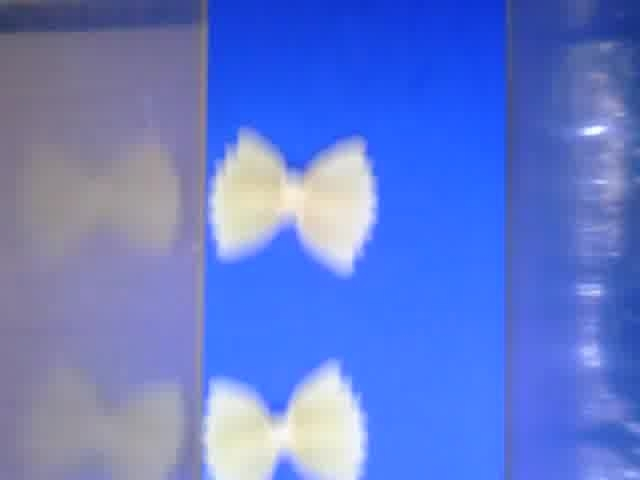farfalle: (209, 128, 380, 280), (201, 361, 369, 480)
